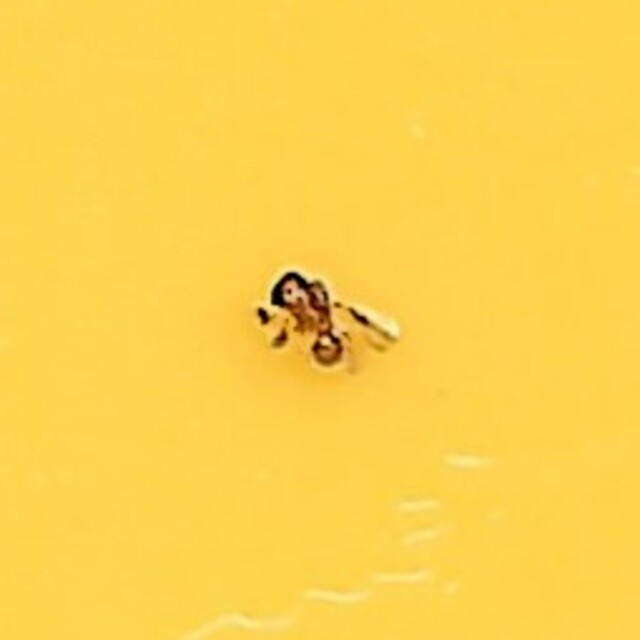Hymenoptera: (251, 270, 389, 370)
